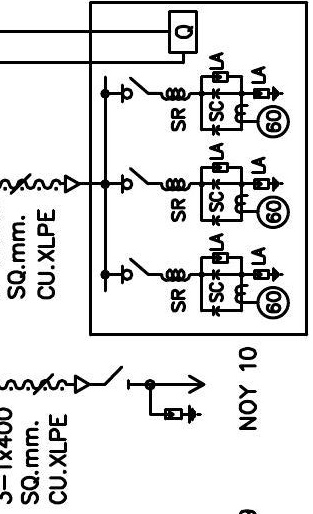22_cap_bank: (88, 0, 309, 337)
22_ds_la_out: (104, 364, 207, 424)
Q: (167, 9, 199, 55)
terminator_single: (63, 174, 81, 195), (73, 374, 91, 394)
